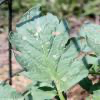Tomato leaf bacterial spot: (8, 3, 88, 94)
